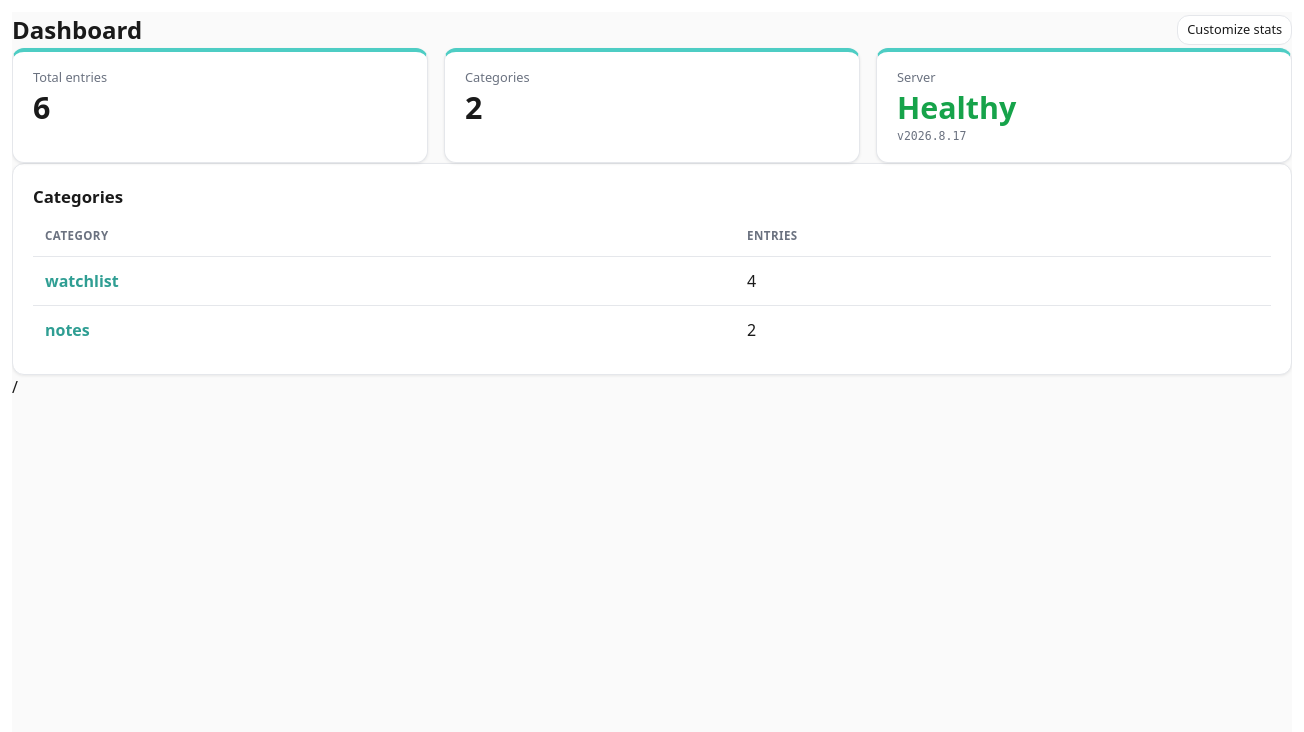
featured stats › featuring a category adds its own card and persists the choice
Click the button "Customize stats": (1235, 30) [1177,15,1292,45]
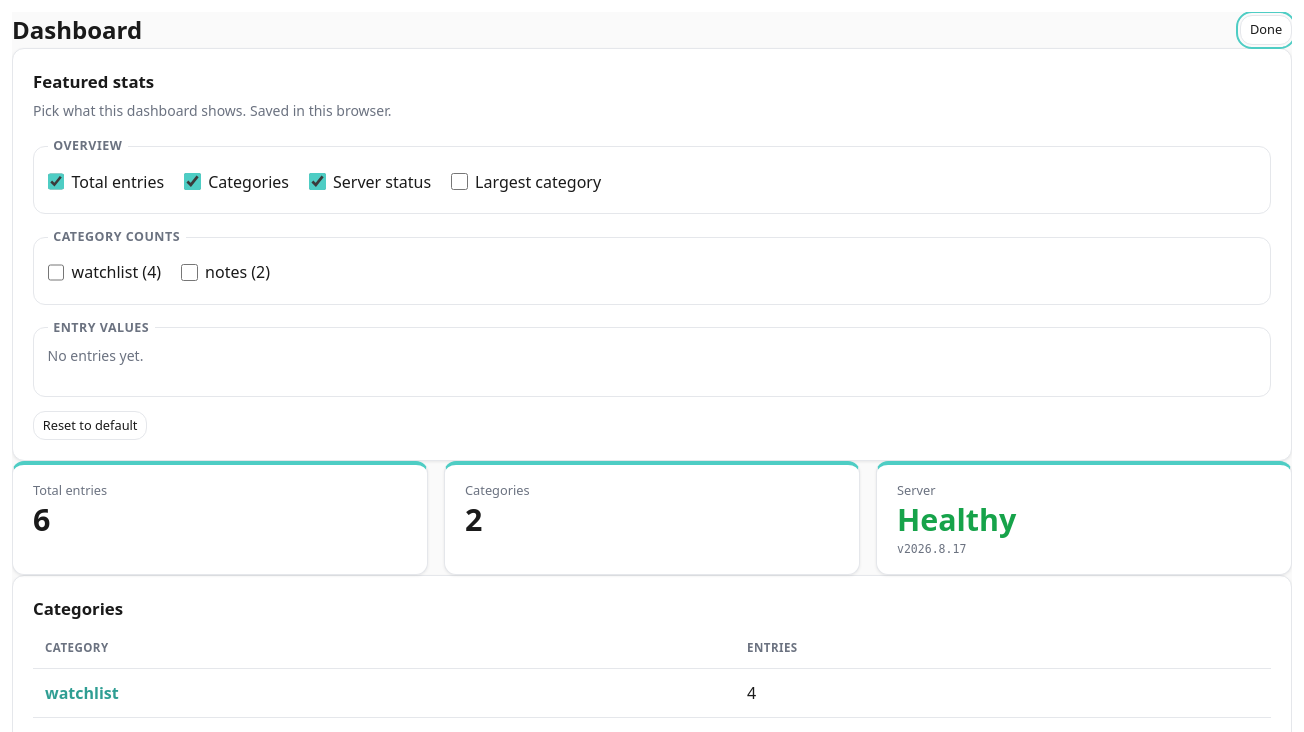
Click the checkbox labelled "notes (2)": (190, 272) [181,264,198,281]
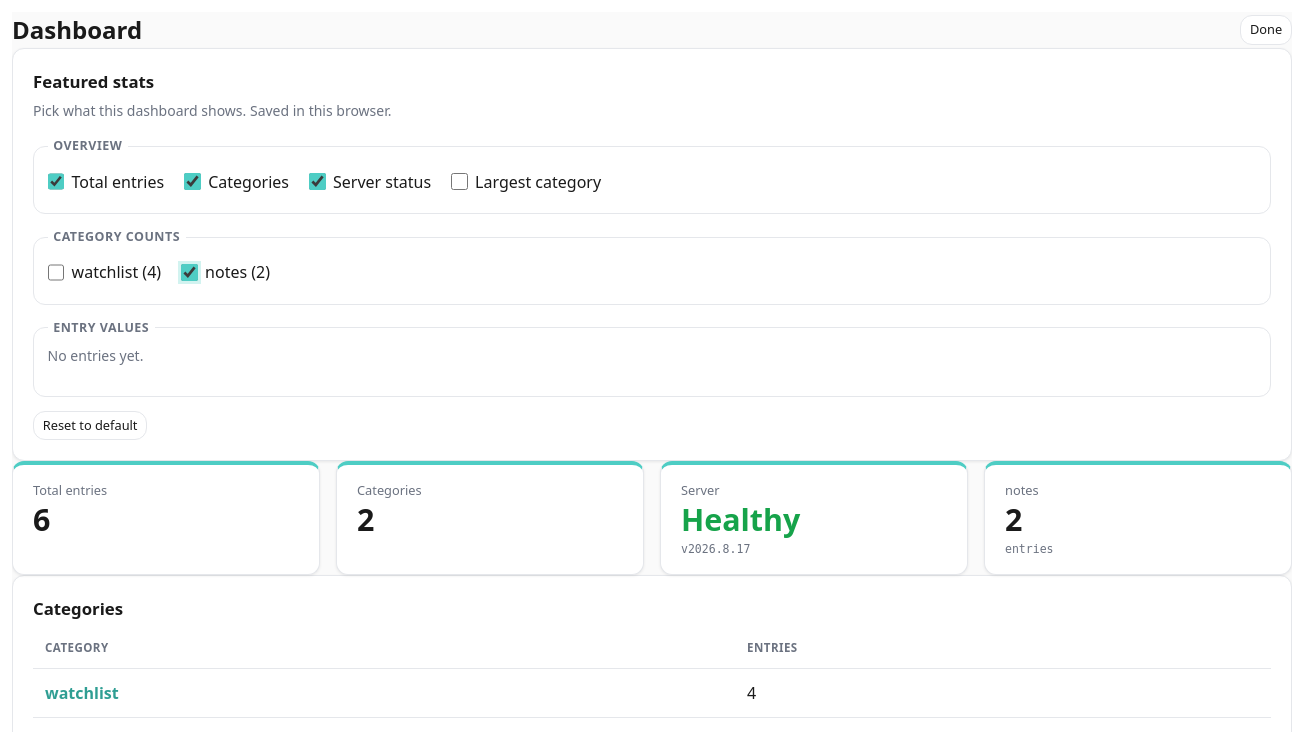
Now the element with class "stat-card" shows "2", box [1005,499,1022,540]
